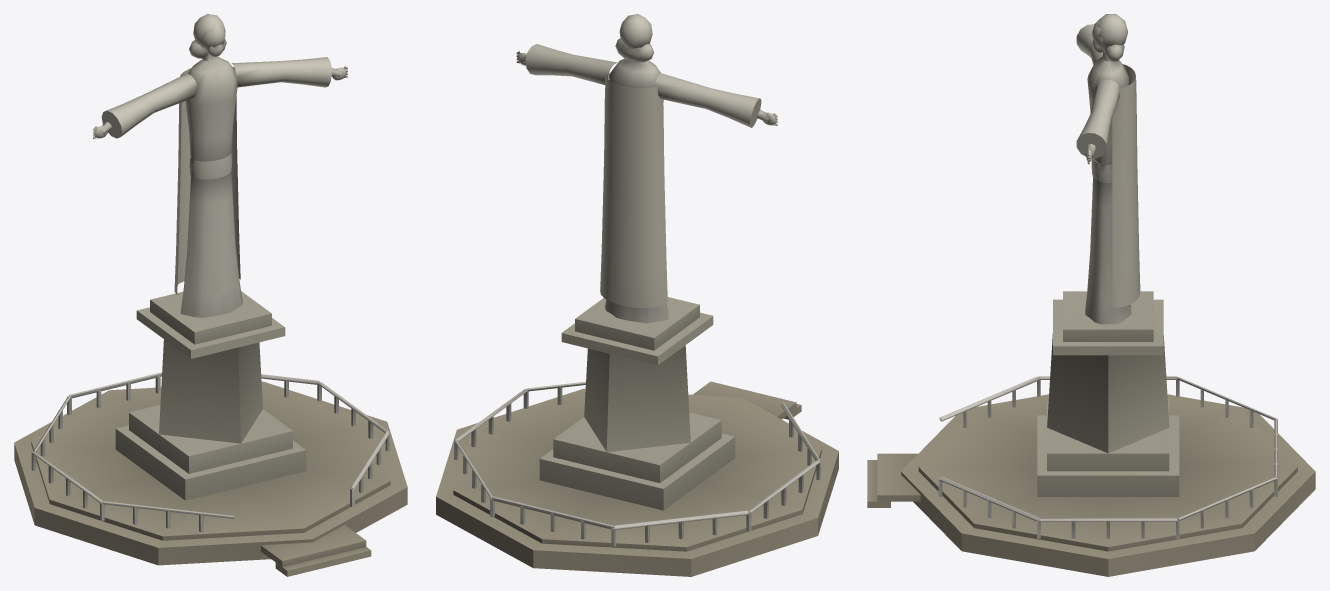
File: cristo.glb
3 renders of one model, left to right at view 1: azimuth 30°, elevation 25°; view 2: azimuth 150°, elevation 25°; view 3: azimuth 270°, elevation 25°, orthographic. The views are drawn at different scales.
Visible parts, largest first — view 1: cristo-plaza, cristo-plinth, cristo-stone, cristo-rail, cristo-mantle; view 2: cristo-plaza, cristo-plinth, cristo-mantle, cristo-stone, cristo-rail; view 3: cristo-plaza, cristo-plinth, cristo-stone, cristo-mantle, cristo-rail.
Part boxes in pixels (bbox=[...]): cristo-plaza: bbox=[14, 381, 407, 576]; cristo-plinth: bbox=[115, 291, 306, 500]; cristo-stone: bbox=[93, 14, 347, 317]; cristo-rail: bbox=[31, 372, 390, 532]; cristo-mantle: bbox=[174, 67, 240, 294]; cristo-plaza: bbox=[436, 381, 838, 576]; cristo-plinth: bbox=[539, 297, 735, 510]; cristo-mantle: bbox=[600, 73, 667, 307]; cristo-stone: bbox=[516, 14, 777, 323]; cristo-rail: bbox=[454, 381, 820, 546]; cristo-plaza: bbox=[867, 394, 1315, 576]; cristo-plinth: bbox=[1037, 291, 1179, 496]; cristo-stone: bbox=[1076, 14, 1131, 324]; cristo-mantle: bbox=[1112, 64, 1140, 307]; cristo-rail: bbox=[938, 376, 1277, 538].
Bounding box in the file's own units: 21 × 26.54 × 22.7.
